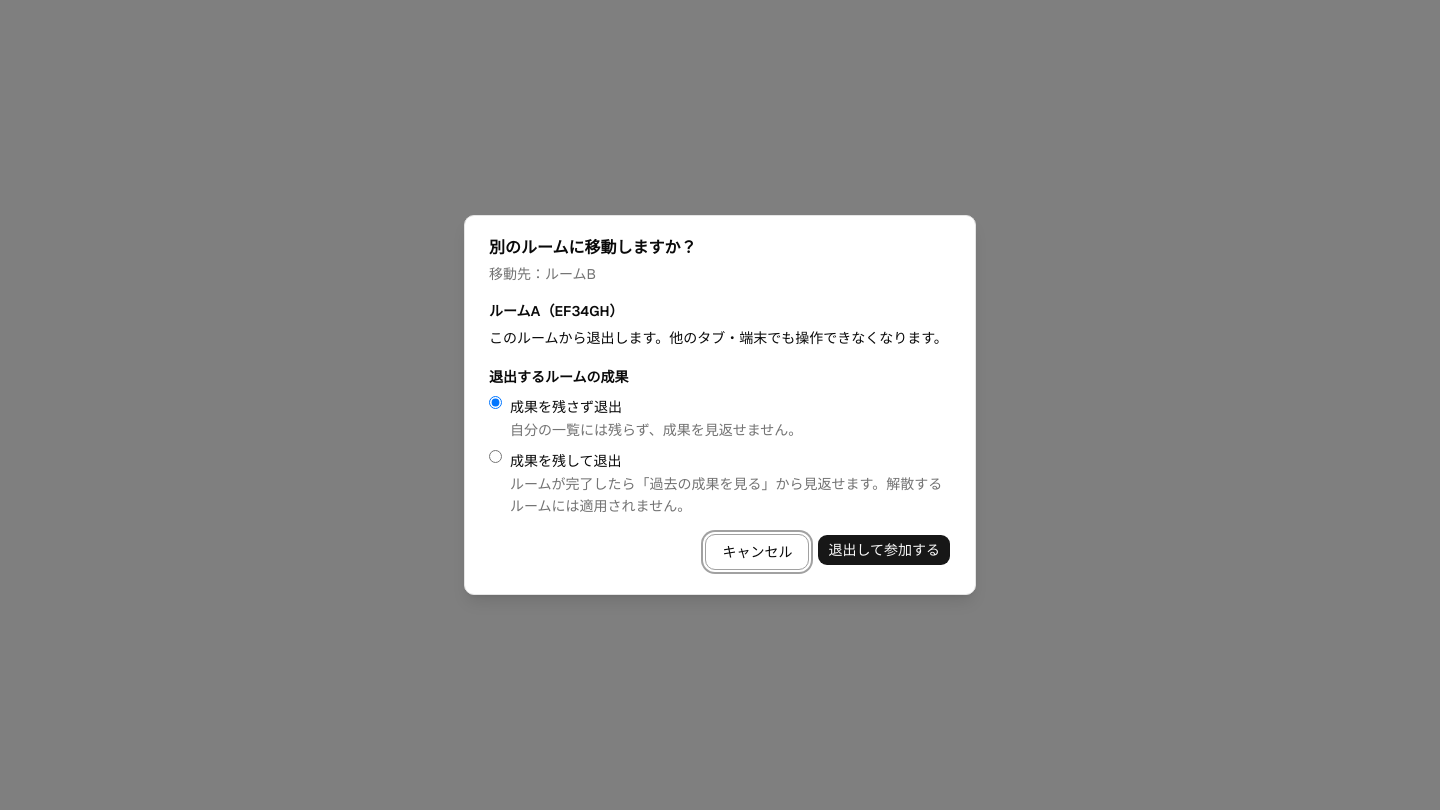
Test: 移動が確定失敗したら退出済みと残る参加先を示し、同じ操作を再送しない
Step 1. Click the button "退出して参加する" → coordinates (884, 550), box [817,534,951,566]
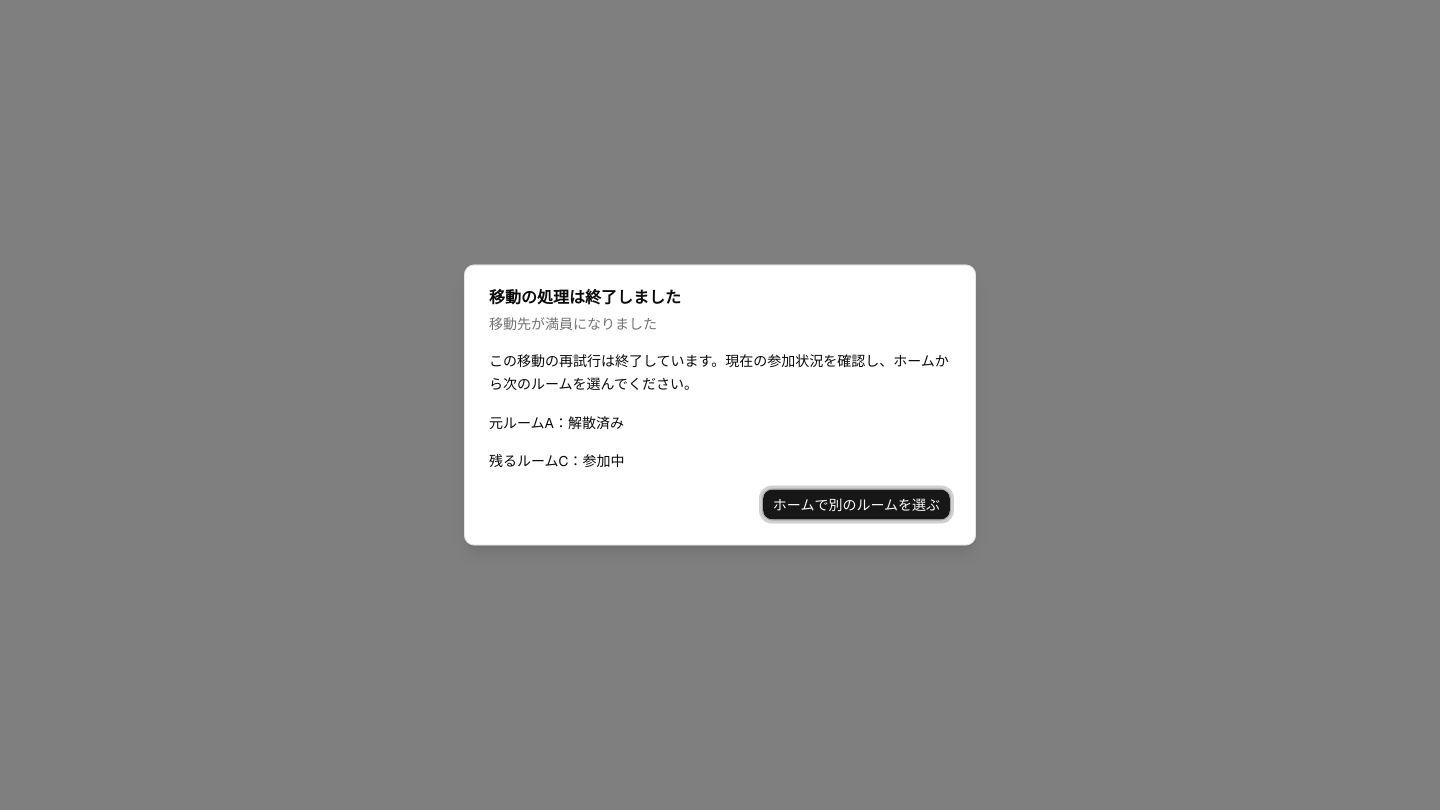
Now the heading "移動の処理は終了しました" is shown, box [489,286,681,308]
Now the text "元ルームA：解散済み" is shown, box [489,413,624,431]
Now the text "残るルームC：参加中" is shown, box [489,452,624,470]
